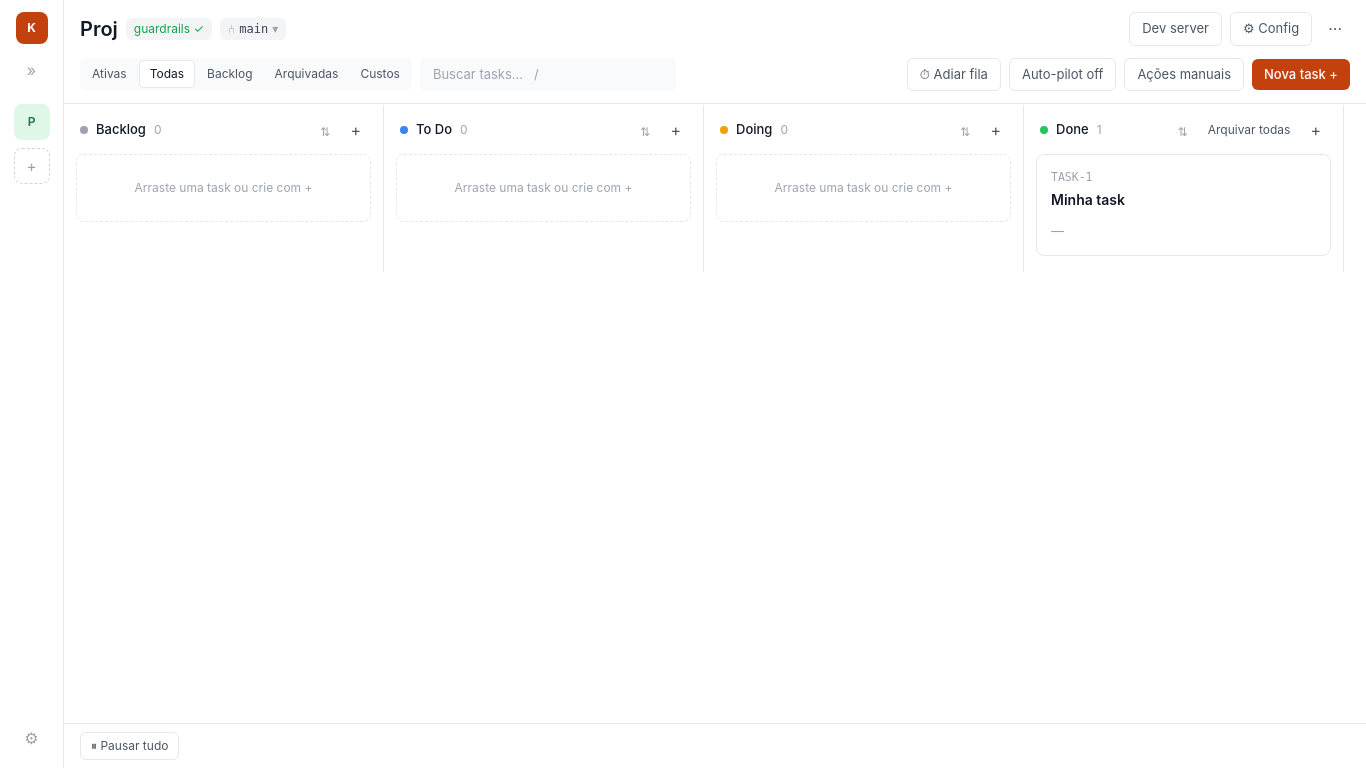
it: view de Custos › board sem execução nenhuma não quebra a view
This screenshot has width=1366, height=768.
Expected: the text "Minha task" is shown, [1051, 191, 1125, 208]
Click the button "Custos" at {"x": 380, "y": 74}, box [350, 61, 410, 87]
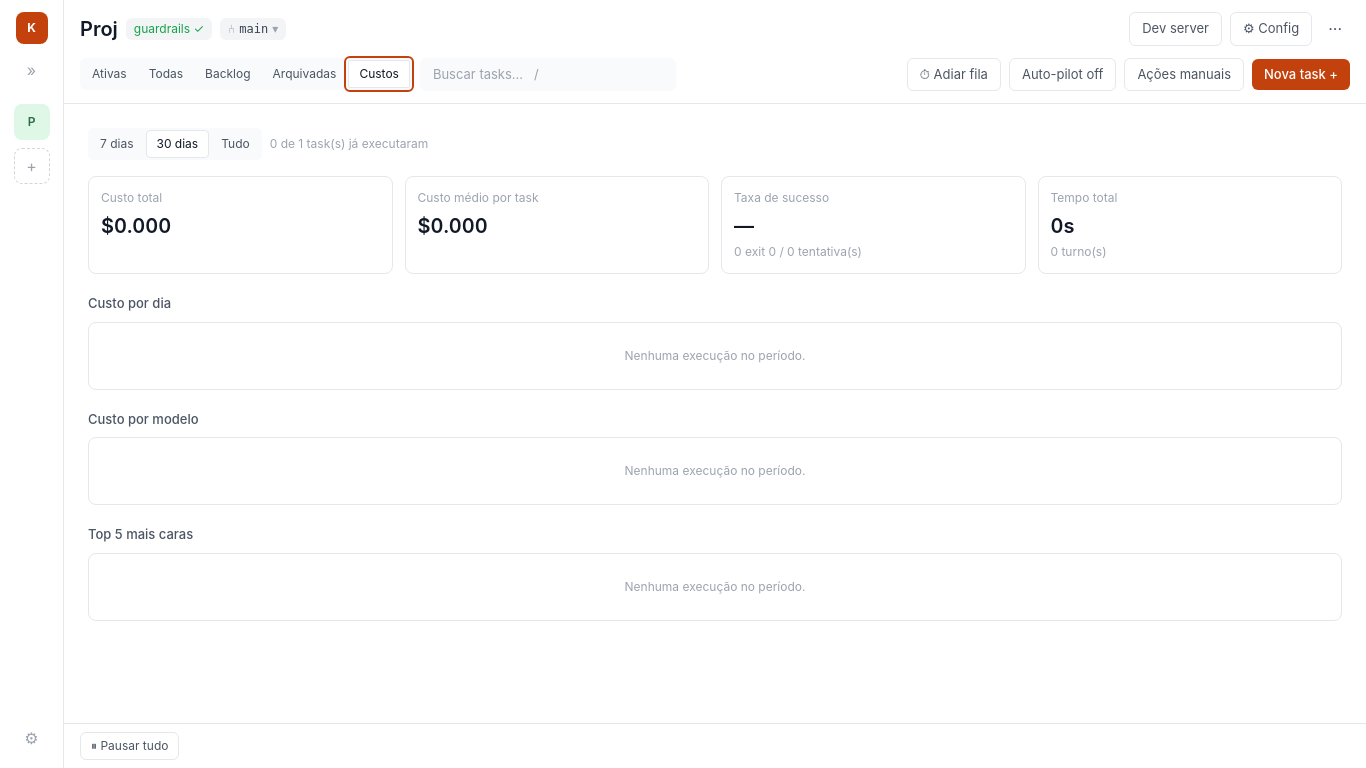
Result: the text "Custo total" is shown at [101, 190, 162, 205]
Result: the text "Nenhuma execução no período." is shown 3 times at [624, 348, 805, 362]; [624, 463, 805, 478]; [624, 578, 805, 594]
